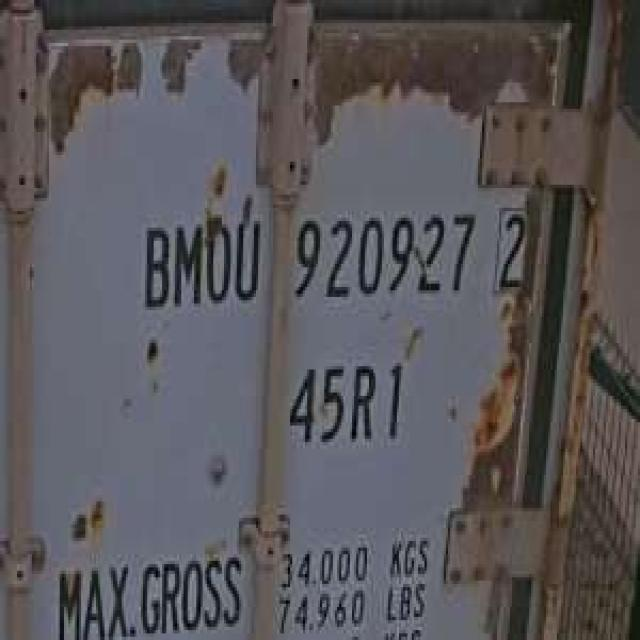dv: (488, 193, 534, 304)
owner: (134, 205, 264, 316)
serial: (288, 198, 480, 310)
size: (281, 346, 414, 456)
